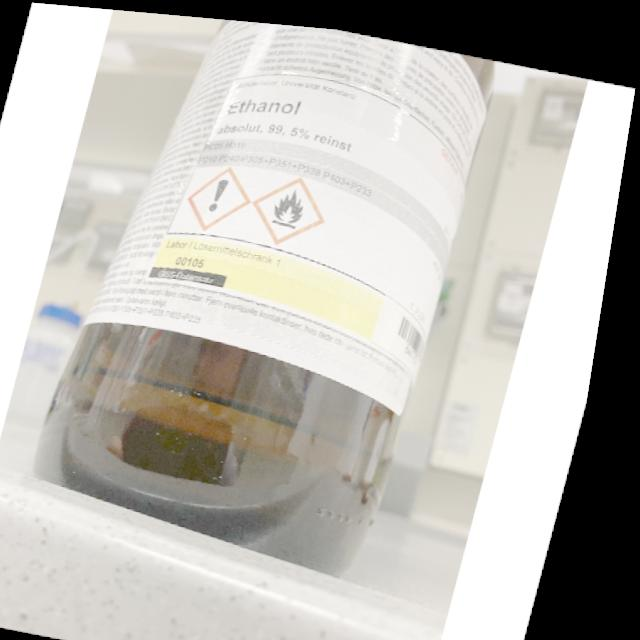flammable: (249, 163, 341, 247)
health-ozone layer hazard: (185, 152, 266, 232)
